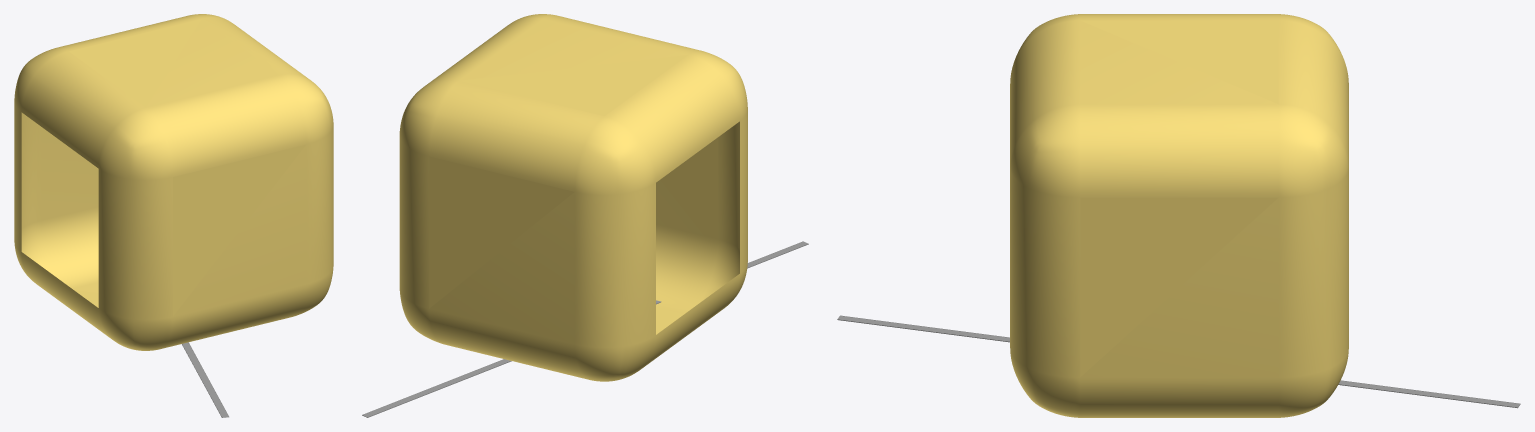
File: modeles15.glb
3 renders of one model, left to right at view 1: azimuth 30°, elevation 25°; view 2: azimuth 150°, elevation 25°; view 3: azimuth 270°, elevation 25°, orthographic. The views are drawn at different scales.
Visible parts, largest first — view 1: Cube.3, Cube.1; view 2: Cube.3, Cube.1, Cube; view 3: Cube.3, Cube.1, Cube.
Part boxes in pixels (<box>): Cube.3: <box>14,14,333,350</box>; Cube.1: <box>182,342,228,417</box>; Cube.3: <box>399,14,747,381</box>; Cube.1: <box>362,241,807,417</box>; Cube: <box>362,241,808,417</box>; Cube.3: <box>1010,14,1348,417</box>; Cube.1: <box>837,316,1520,407</box>; Cube: <box>837,315,1520,408</box>.
Bounding box in the file's own units: 135 × 135 × 272.
